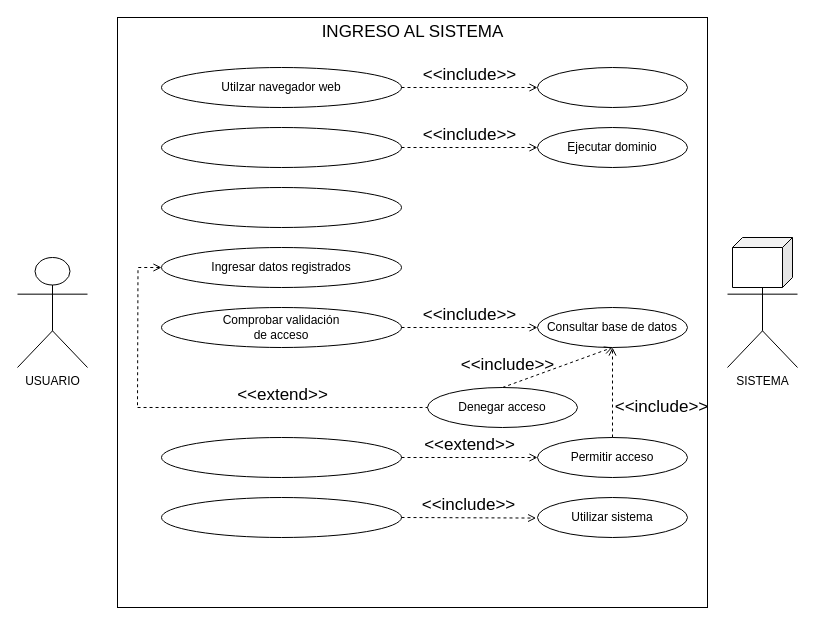
Image size: 815x625. Some labels were removed from this diagram. The box of each missing label's shape, as (x1, y1, x2, y2) in pixels:
Ejecutar programa: (536, 66, 688, 108)
Iintroducir dominio web: (160, 126, 402, 168)
Mostrar interfaz: (160, 186, 402, 228)
Mostrar sistema: (160, 436, 402, 478)
Observar sistema web: (160, 496, 402, 538)
